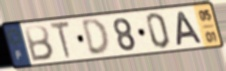0: (145, 11, 172, 51)
8: (112, 17, 137, 52)
A: (175, 10, 205, 48)
B: (23, 24, 56, 63)
D: (80, 17, 111, 57)
T: (48, 19, 73, 61)
